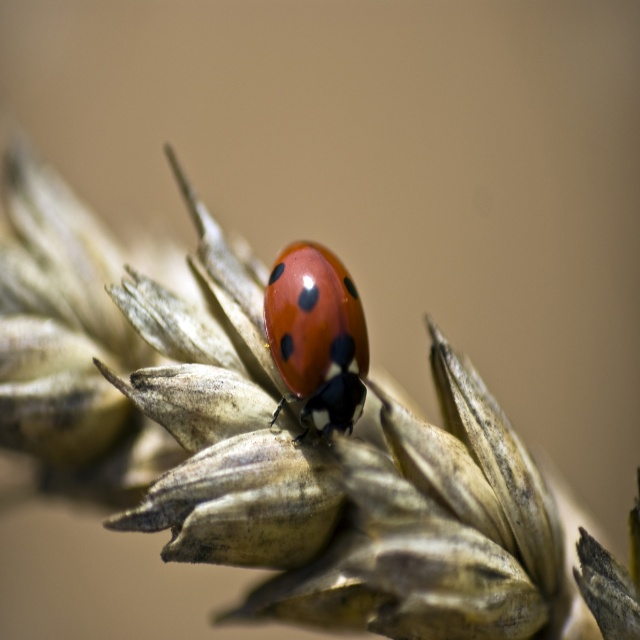Ladybug: (266, 238, 370, 445)
